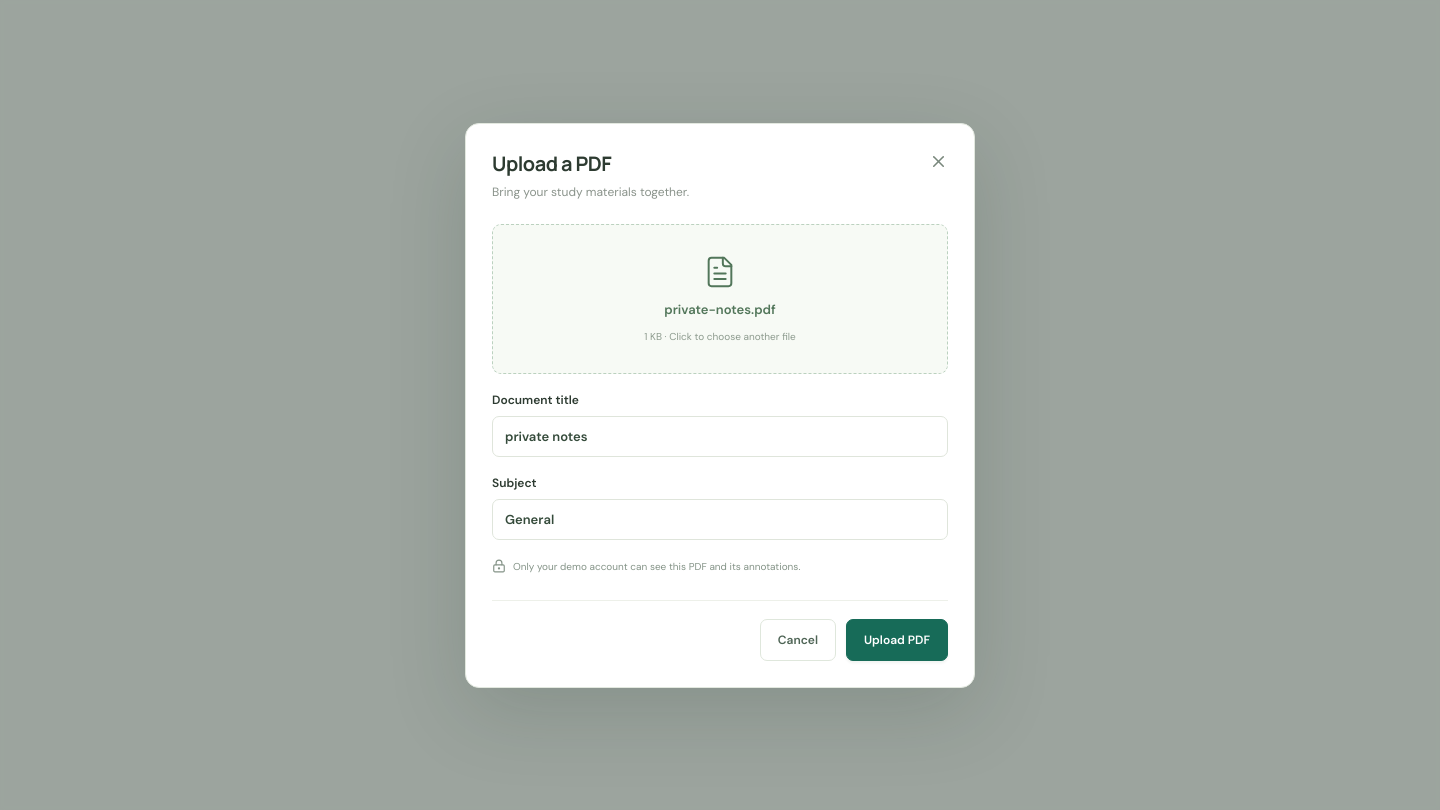
Test: PDF upload lifecycle › retains the selected file and metadata after a failed save and retries them
The image size is (1440, 810).
Earlier steps of the test are not shown.
Later steps or results of the test are not shown.
Replace the text in the field labelled "Document title" with "My revision notes" at [720, 436], box [492,416,948,456]
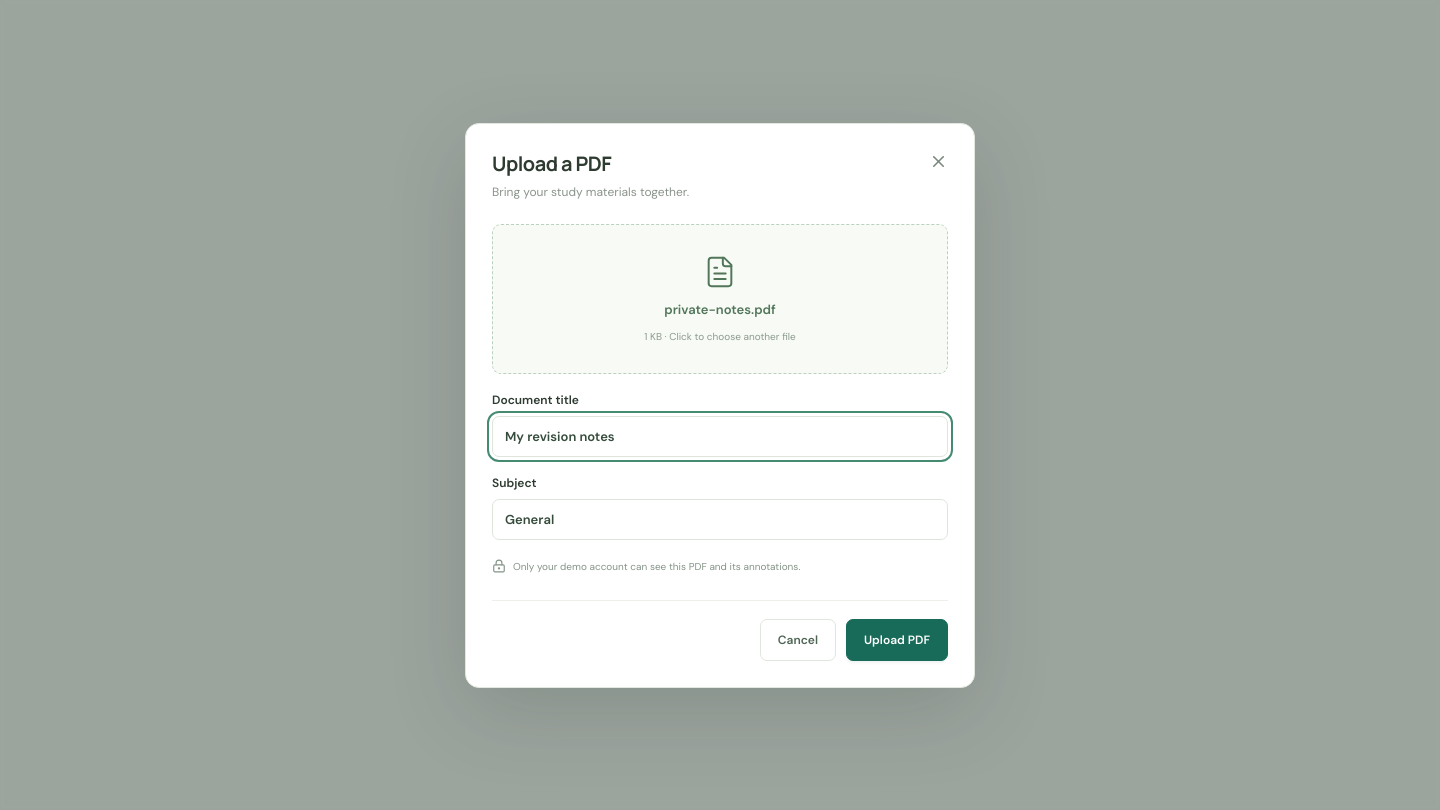
Click the button "Upload PDF".
click(897, 640)  # box [846,618,948,660]
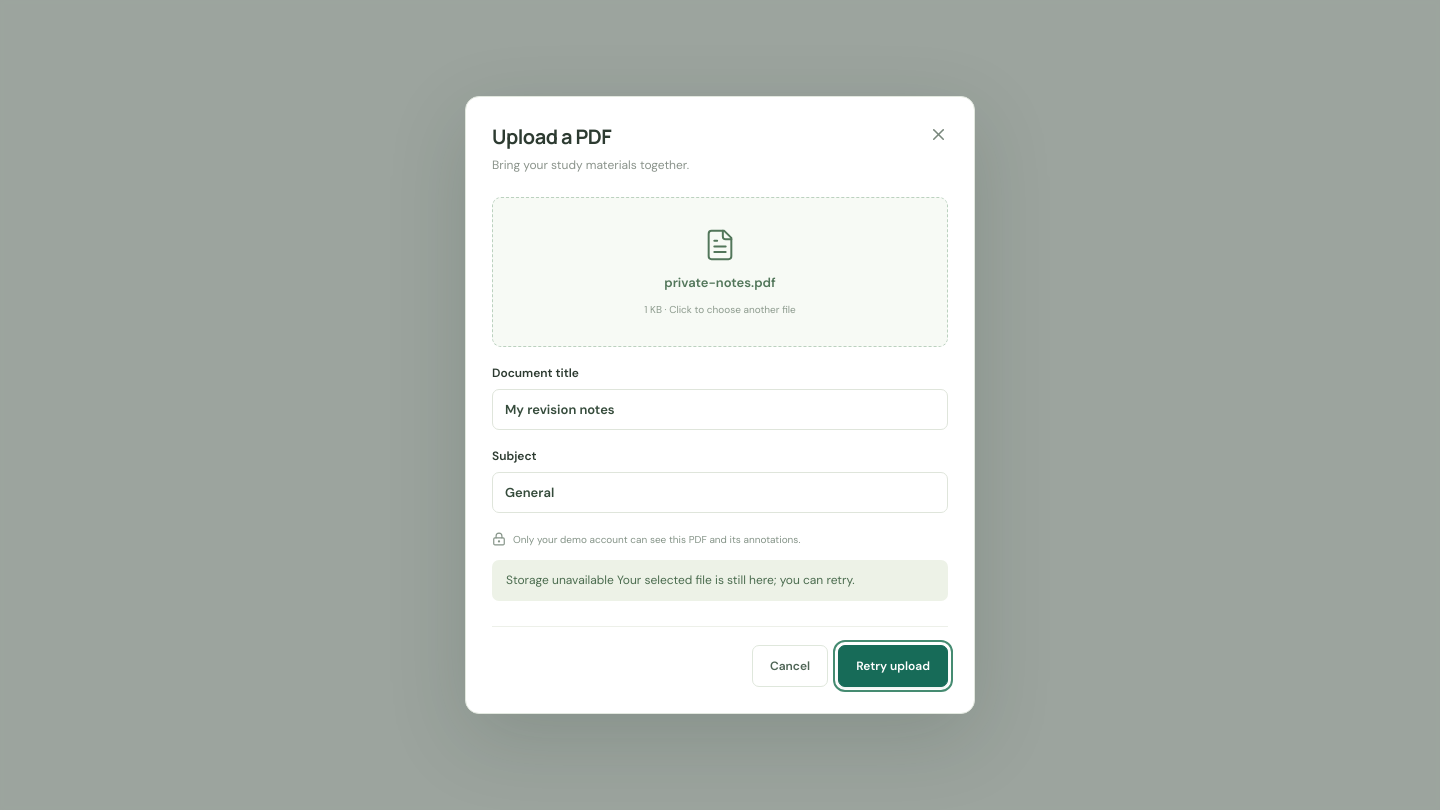
Result: the message shows "Your selected file is still here" at [614,572,855,588]
